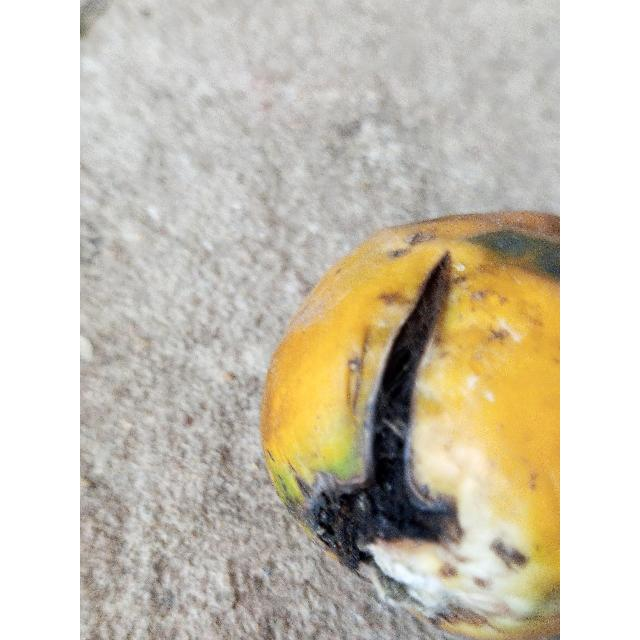damaged: (261, 212, 560, 640)
